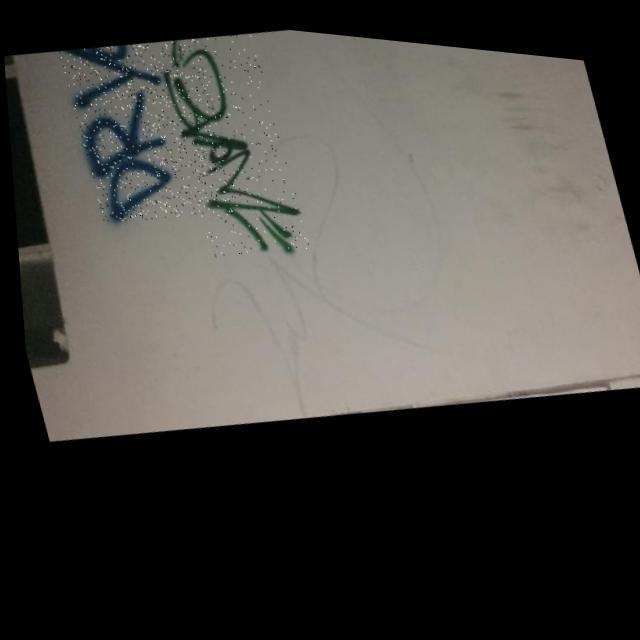-: (58, 23, 240, 233), (154, 19, 308, 262)
